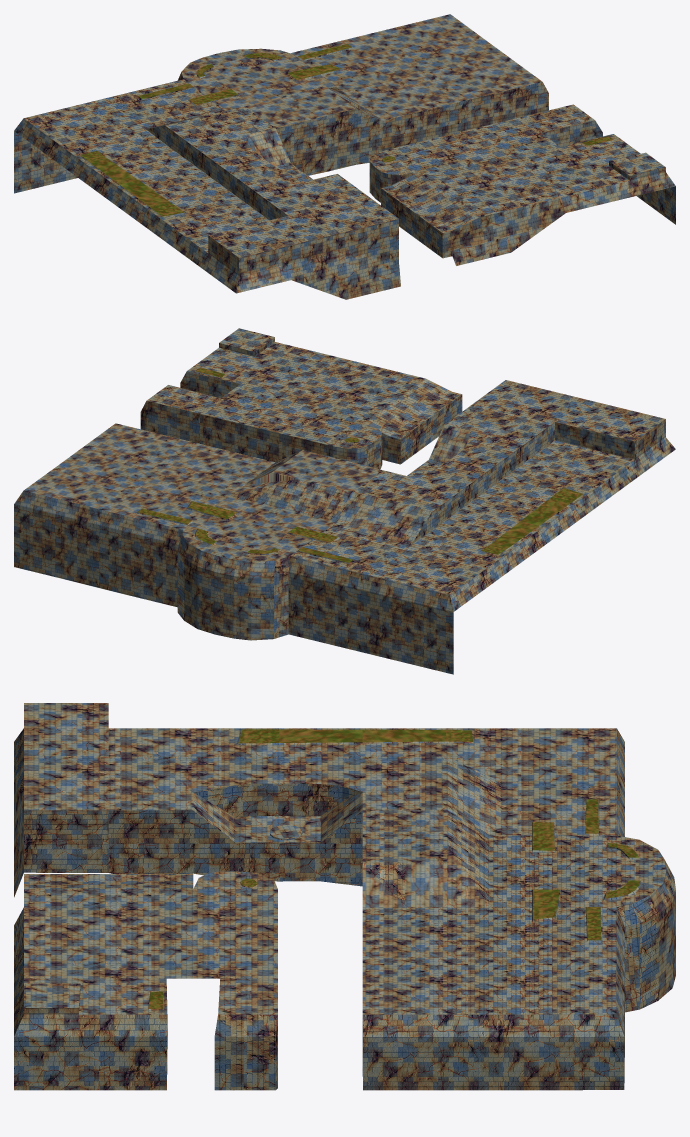
3 renders of one model, top to bottom at view 1: azimuth 30°, elevation 25°; view 2: azimuth 150°, elevation 25°; view 3: azimuth 270°, elevation 25°, orthographic. The views are drawn at different scales.
Visible parts, largest first — view 1: 地面; view 2: 地面; view 3: 地面.
Part boxes in pixels (x1,y1,x2,y2): 地面: [14, 14, 675, 299]; 地面: [14, 328, 675, 674]; 地面: [14, 703, 675, 1090].
Size of the model in its own units: 1600 by 329 by 1517.
Materials: 1 (1 with a texture image).
